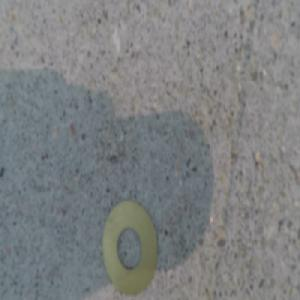Washer: (102, 194, 160, 286)
